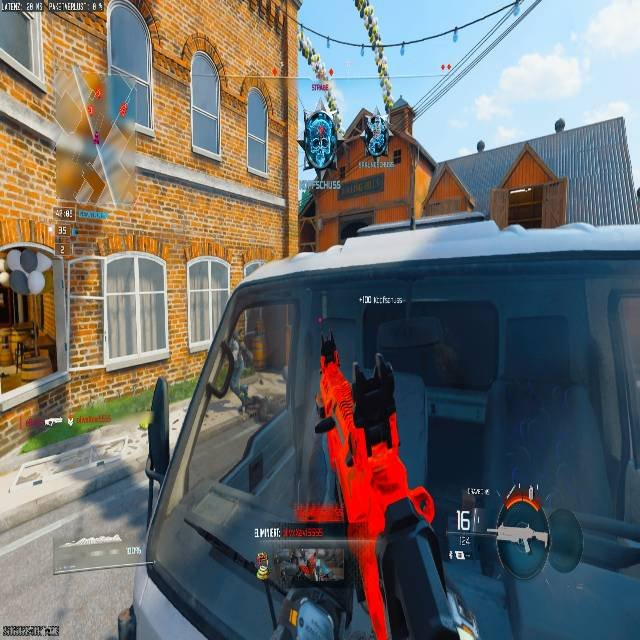head: (320, 336, 338, 367)
player: (316, 334, 354, 438)
